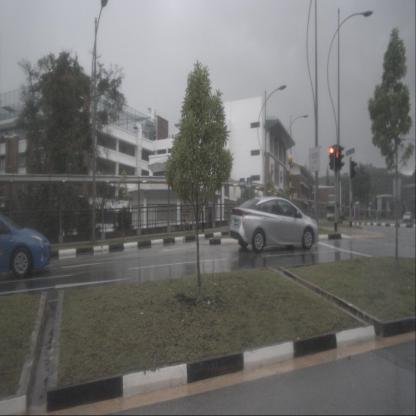vehicle-bicycle: (182, 210, 190, 232)
vehicle-car: (229, 196, 319, 254), (0, 213, 52, 279), (403, 210, 413, 223)
